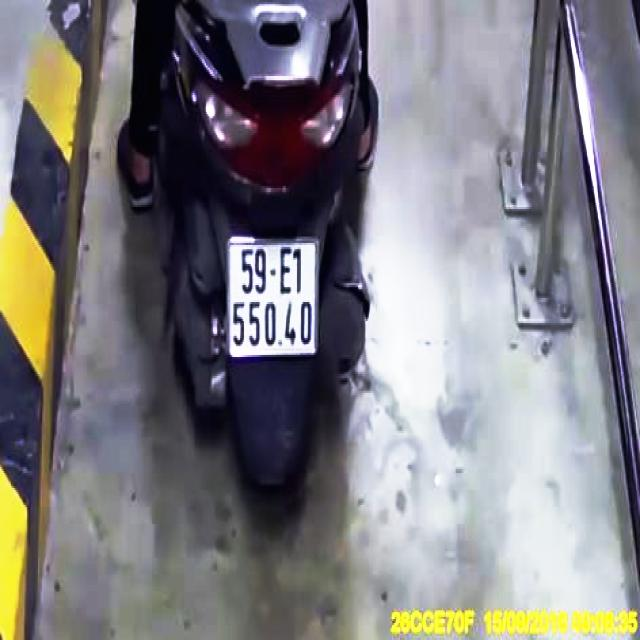license_plate: (228, 236, 321, 358)
